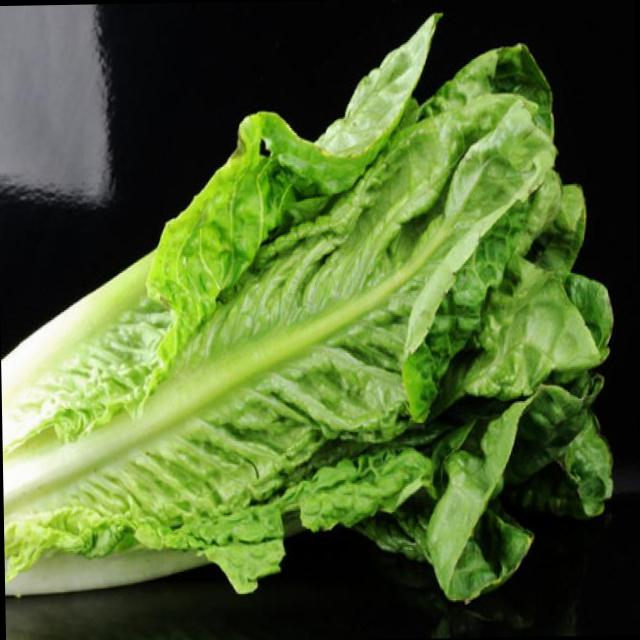Lettuce-Ready-to-Harvest: (1, 13, 614, 609)
